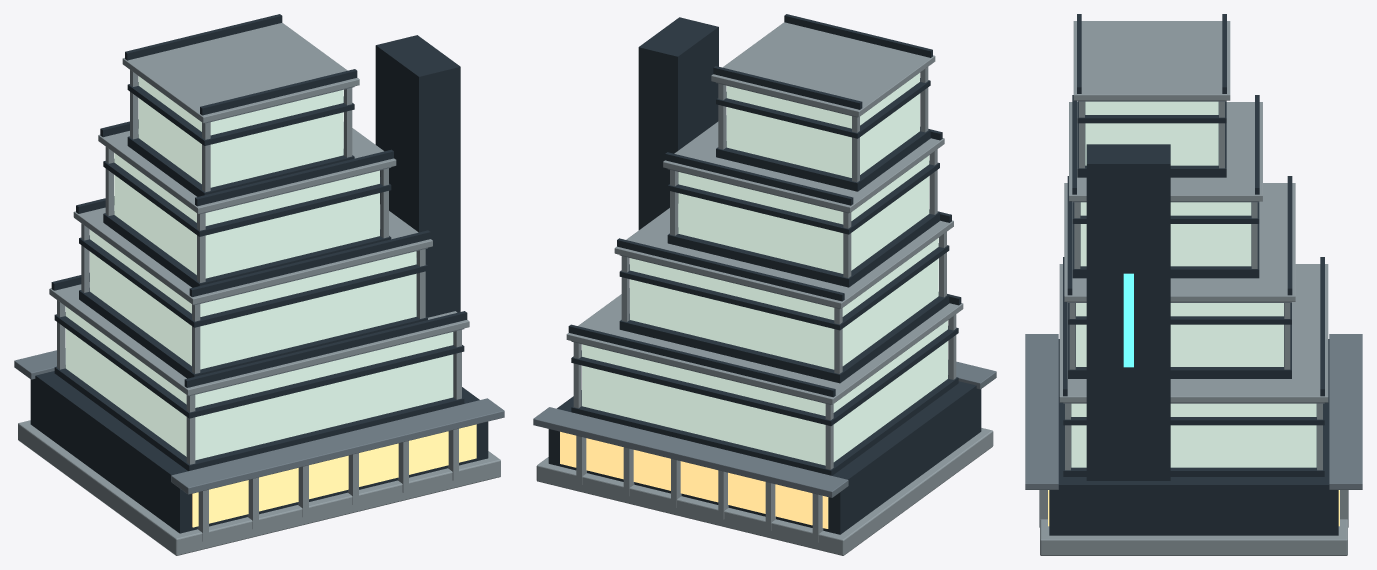
Rendered from vrx_city_services_a_LOD0.fbx.
The picture shows the model from 3 angles, left to right: view 1: azimuth 30°, elevation 25°; view 2: azimuth 150°, elevation 25°; view 3: azimuth 270°, elevation 25°; orthographic projection. The views are drawn at different scales.
Parts seen in each view (by area): view 1: vrx_city_services_a_LOD0; view 2: vrx_city_services_a_LOD0; view 3: vrx_city_services_a_LOD0.
Part boxes in pixels (bbox=[...]): vrx_city_services_a_LOD0: bbox=[14, 14, 504, 555]; vrx_city_services_a_LOD0: bbox=[533, 14, 996, 555]; vrx_city_services_a_LOD0: bbox=[1025, 14, 1362, 555].
Bounding box in the file's own units: 39 × 48.5 × 36.2.
